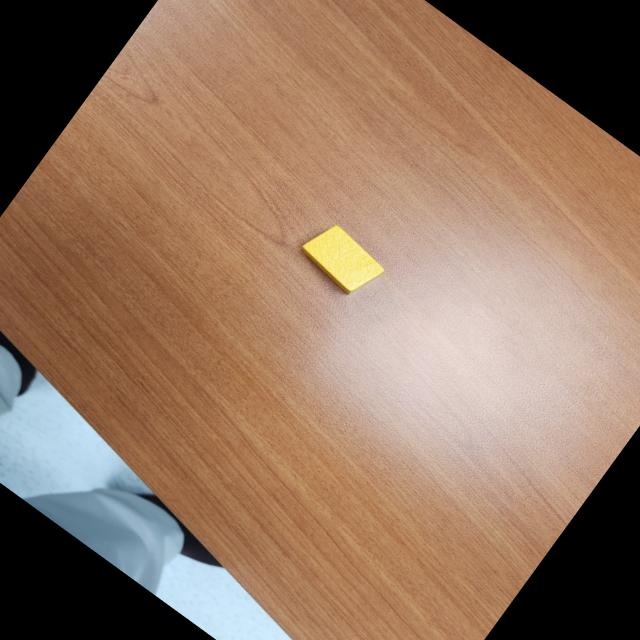yellow: (290, 214, 390, 306)
